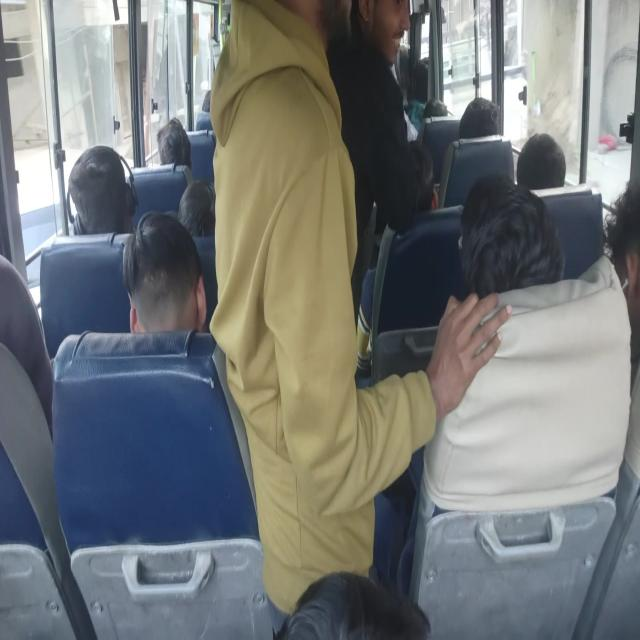person: (212, 1, 331, 146), (456, 172, 565, 302), (347, 0, 410, 180), (121, 213, 206, 336), (0, 250, 53, 439), (281, 570, 423, 638), (603, 170, 640, 383), (439, 98, 507, 207), (68, 149, 122, 222), (515, 132, 566, 193), (177, 179, 216, 239), (458, 97, 502, 141), (156, 118, 192, 171), (423, 98, 449, 119), (202, 89, 211, 113)
